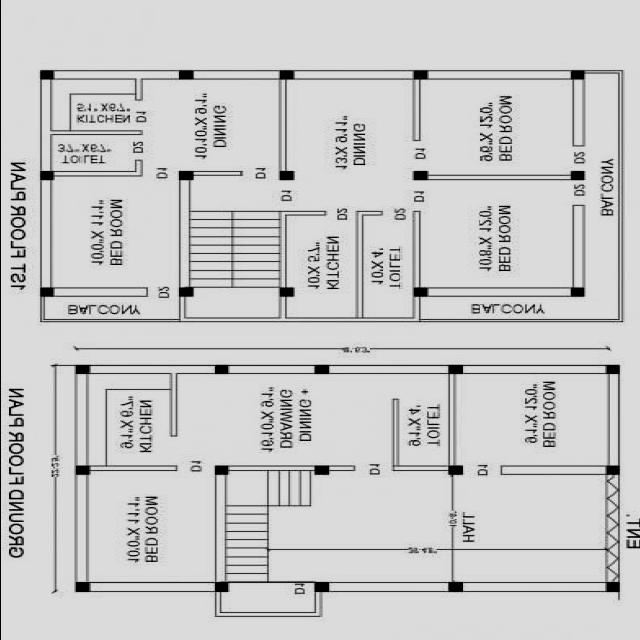column: (407, 67, 431, 82), (70, 462, 92, 477), (408, 169, 431, 183), (210, 463, 232, 477), (566, 285, 588, 299), (408, 285, 430, 299), (275, 285, 297, 299), (174, 69, 196, 83), (212, 578, 231, 594), (446, 580, 466, 594), (444, 462, 464, 476), (310, 580, 330, 594), (310, 464, 330, 478), (73, 580, 93, 594), (276, 169, 296, 183), (566, 169, 587, 182), (274, 69, 296, 81), (72, 363, 92, 376), (210, 363, 230, 376), (446, 363, 466, 376), (175, 286, 195, 299), (603, 580, 621, 594), (311, 364, 331, 376), (602, 364, 622, 376), (36, 170, 56, 182), (176, 170, 196, 182), (568, 70, 588, 82), (36, 69, 56, 81), (602, 464, 620, 476), (38, 286, 56, 298)
